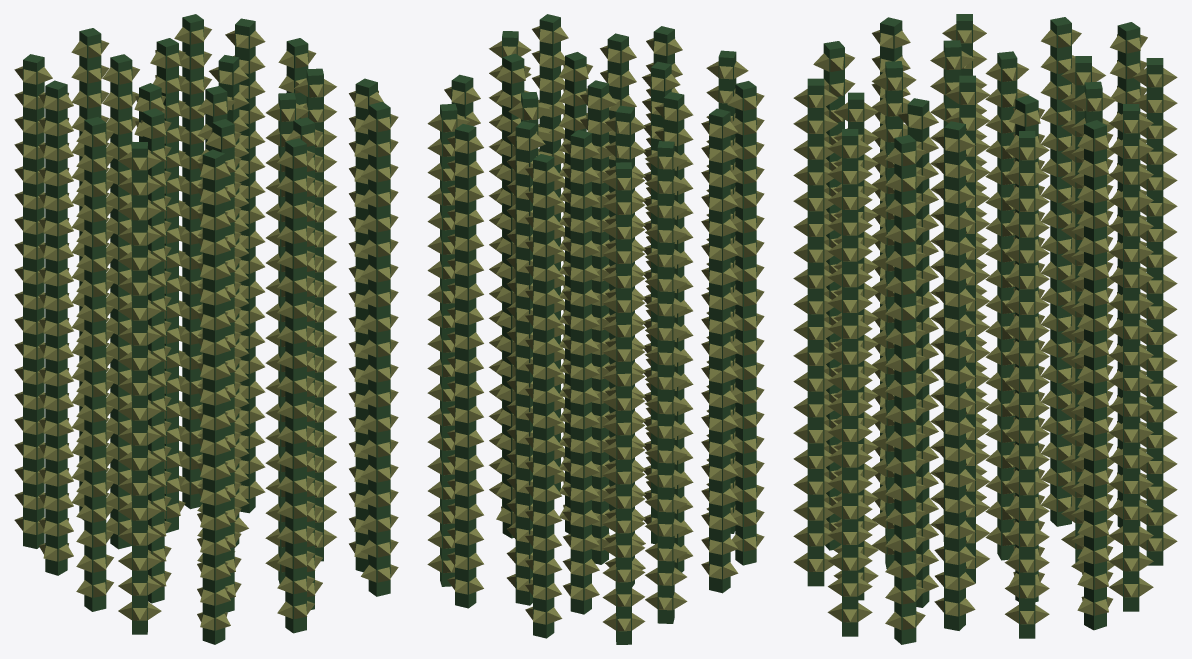
File: Tanaman Berduri.fbx
3 views of the same model, side by side, from view 1: azimuth 30°, elevation 25°; view 2: azimuth 150°, elevation 25°; view 3: azimuth 270°, elevation 25° (orthographic). The views are drawn at different scales.
Visible parts, largest first — view 1: Cube.003; view 2: Cube.003; view 3: Cube.003.
Boxes of the visible parts, <box> form: Cube.003: <box>14,14,398,644</box>; Cube.003: <box>427,14,764,644</box>; Cube.003: <box>793,14,1177,644</box>.
Bounding box in the file's own units: 281 × 467 × 325.
